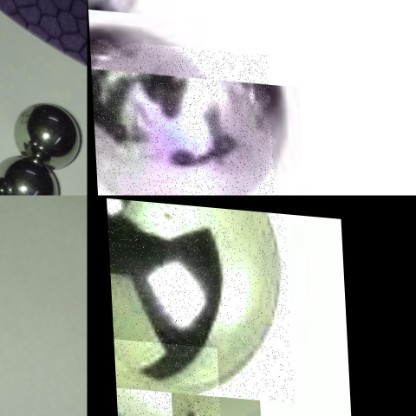ironball: (106, 196, 291, 398), (87, 39, 273, 195), (111, 337, 218, 415), (9, 100, 78, 167), (0, 155, 64, 196)
